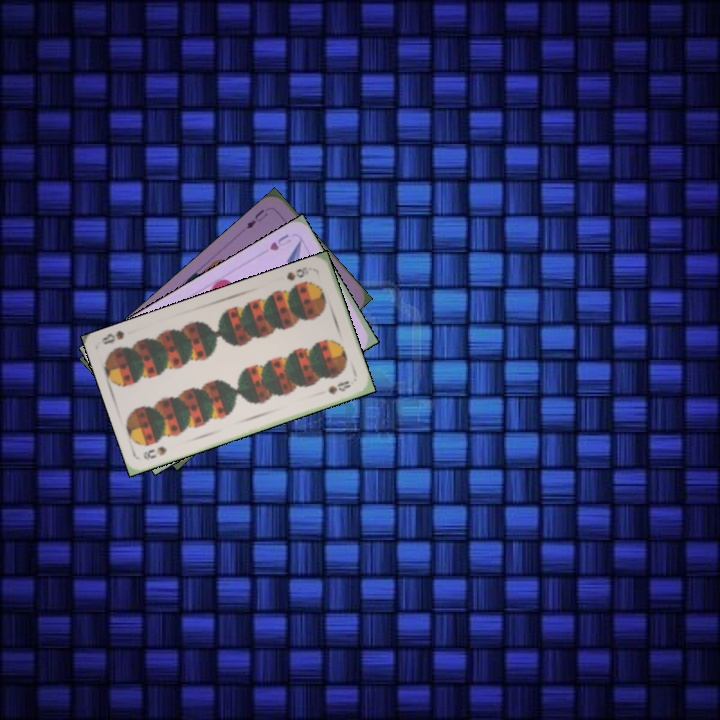EU: (242, 205, 270, 232)
HU: (266, 230, 294, 253)
S8: (139, 442, 170, 463), (282, 263, 311, 283)
